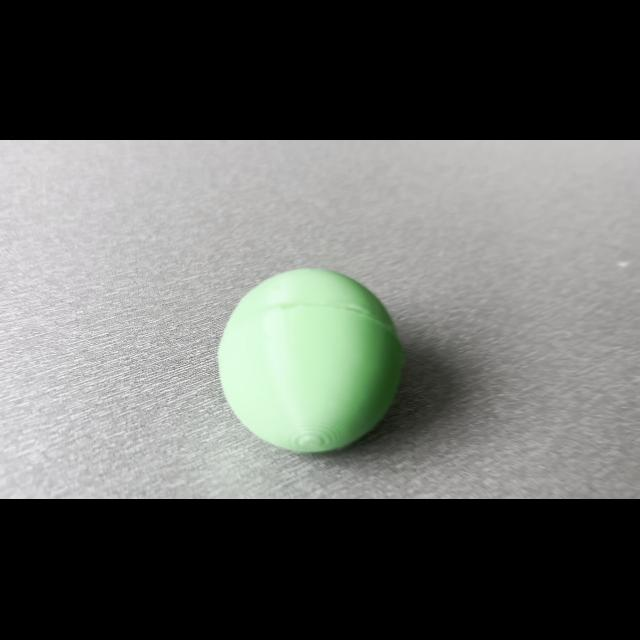objects: (207, 261, 423, 459)
